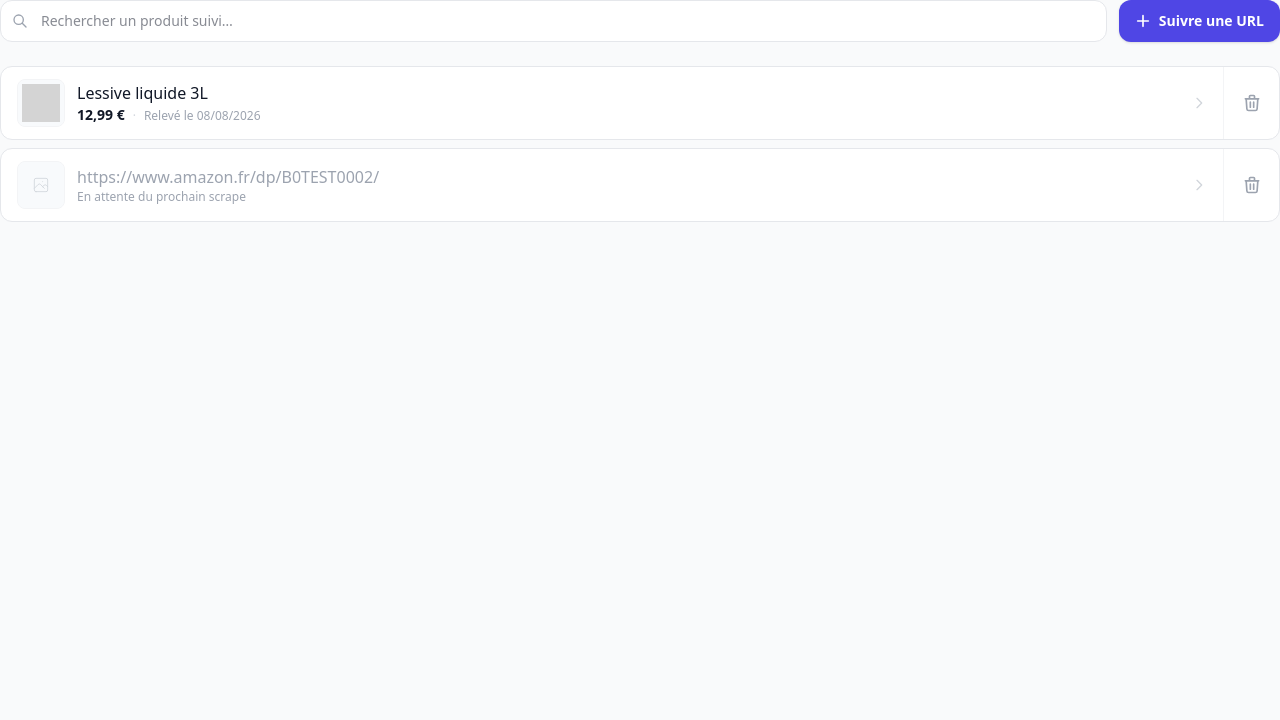
Test case: TrackedUrlDashboard › retrait du suivi › demande confirmation avant de retirer
Click the button named "Retirer du suivi Lessive liquide 3L" at (1251, 103), box [1223,67,1279,139]
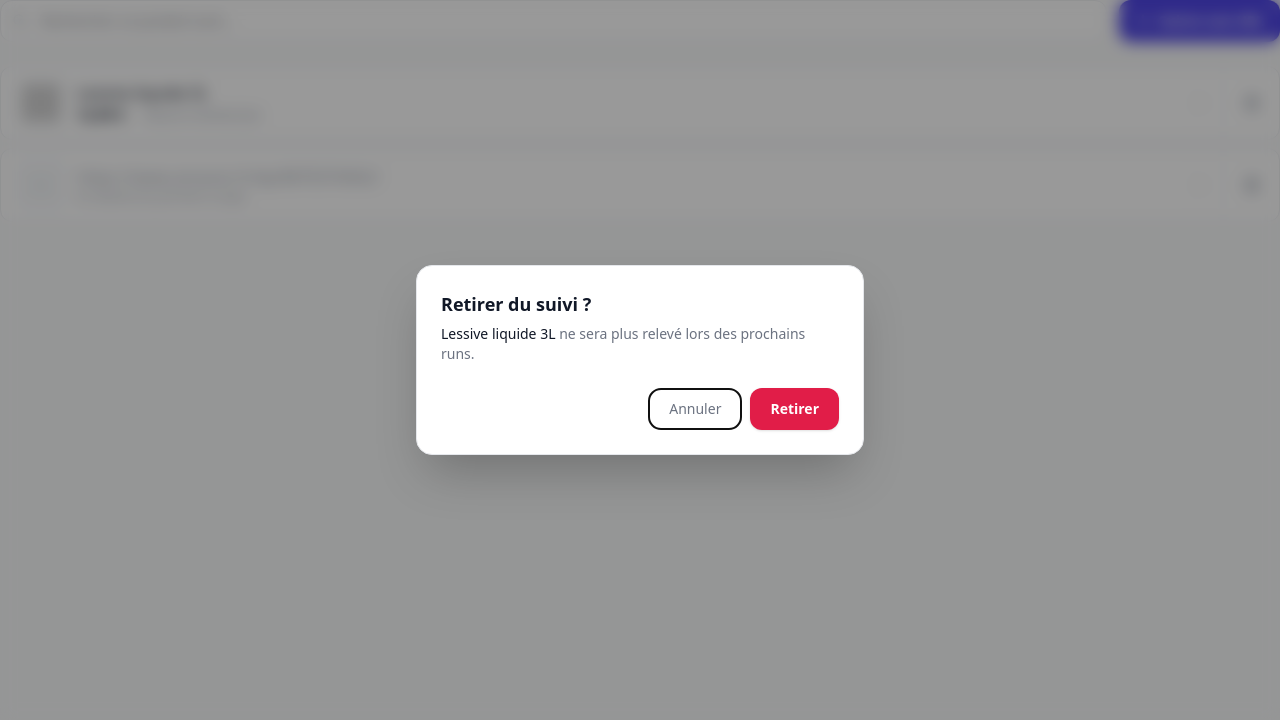
Expected: the dialog is shown, [416,265,864,455]
